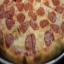pepperoni: (6, 7, 17, 29), (24, 34, 39, 48), (42, 31, 56, 44), (5, 33, 16, 47), (15, 11, 27, 22)
pizza: (2, 2, 64, 64)
